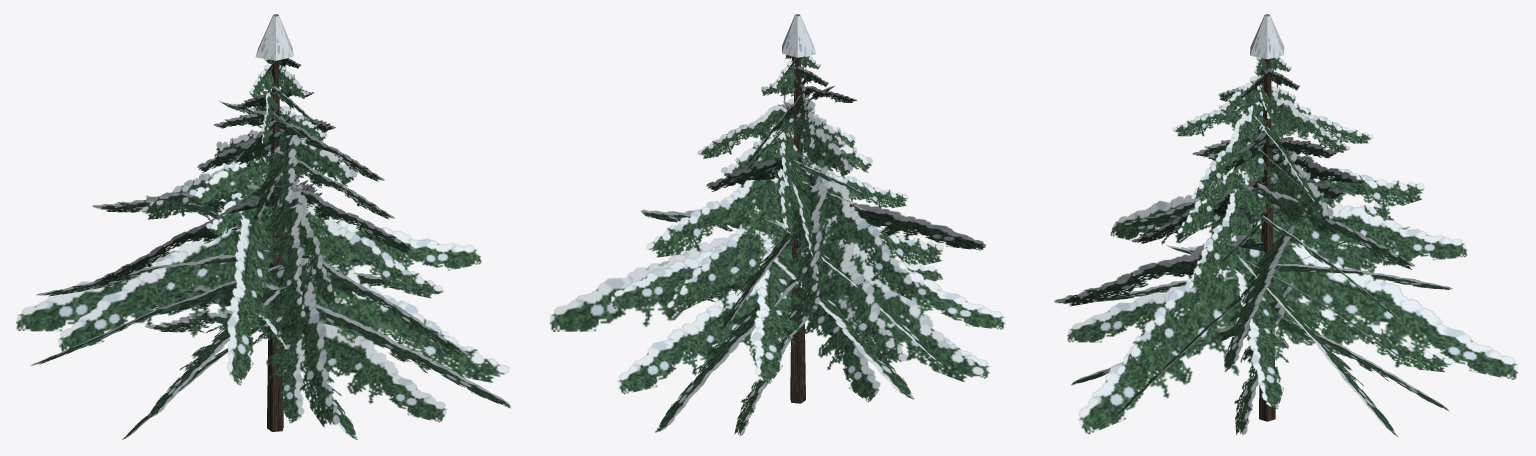
Rendered from BushyPine.glb.
The picture shows the model from 3 angles, left to right: view 1: azimuth 30°, elevation 25°; view 2: azimuth 150°, elevation 25°; view 3: azimuth 270°, elevation 25°; orthographic projection. The views are drawn at different scales.
Visible parts, largest first — view 1: BushyPine; view 2: BushyPine; view 3: BushyPine.
Boxes of the visible parts, box(x1,y1,x2,y2) form: BushyPine: box(16, 14, 510, 439); BushyPine: box(549, 14, 1005, 435); BushyPine: box(1054, 14, 1518, 436).
Size of the model in its own units: 3.31 by 2.9 by 3.12.
1 material, 1 textured.
